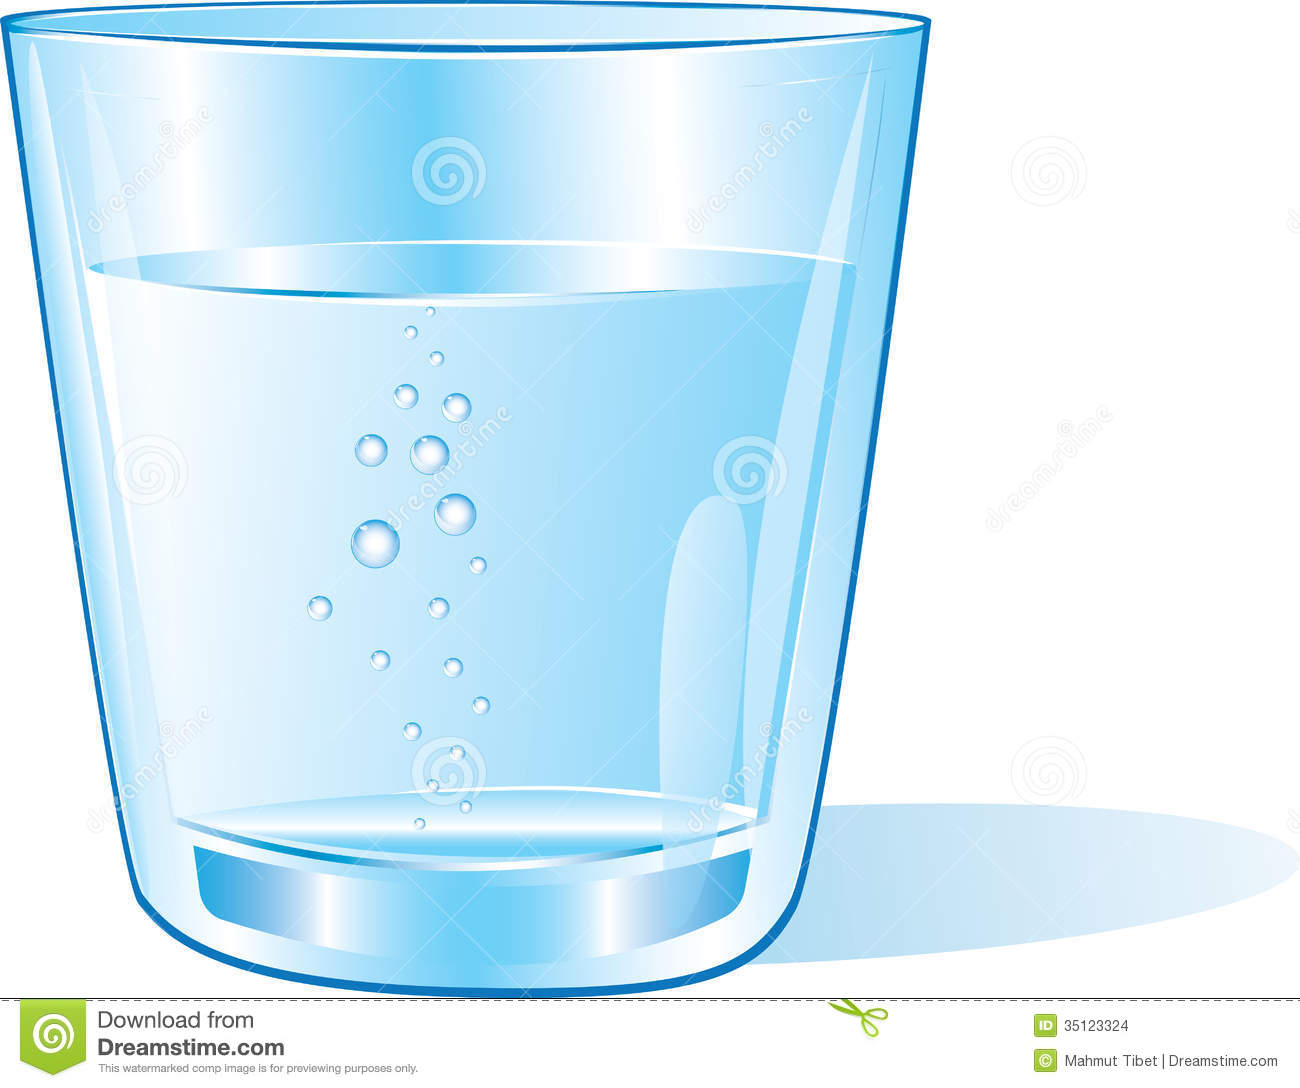glass of water: (137, 120, 797, 947)
